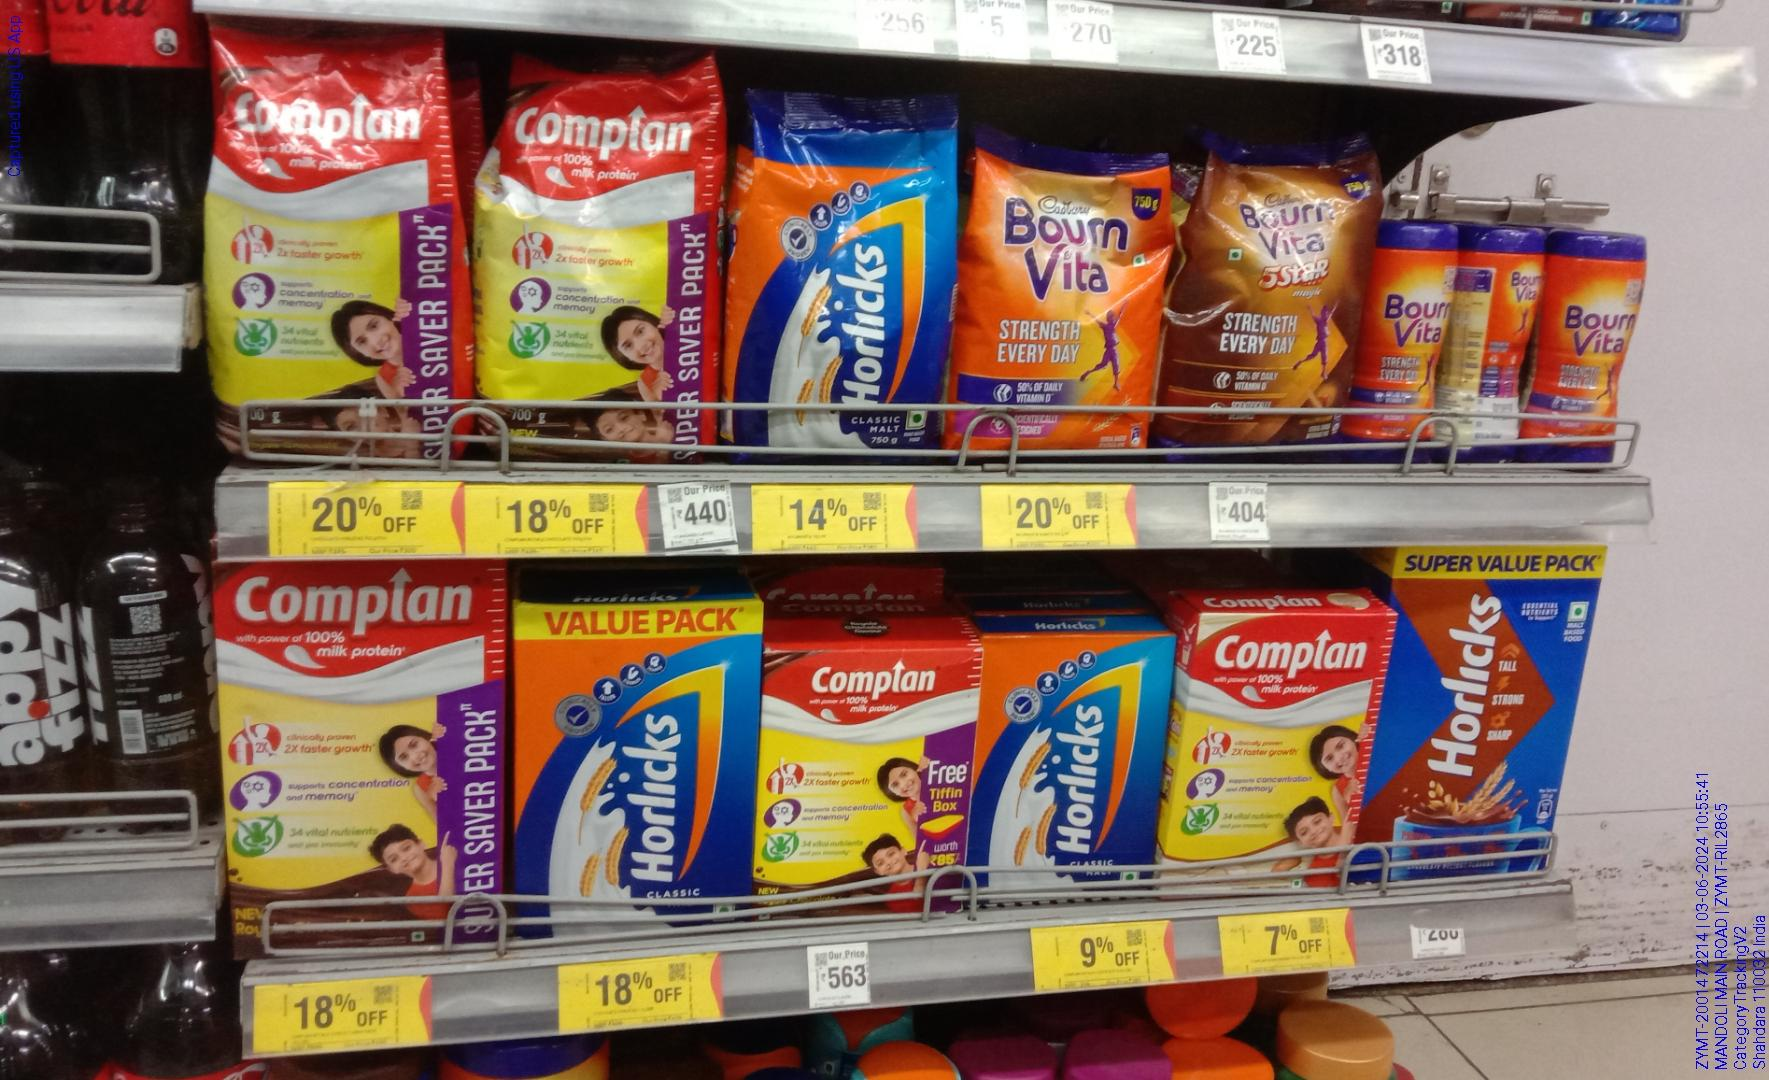BOURN_VITA_FIVE_STAR_MAGIC_750_G_POUCH: (1180, 138, 1367, 461)
HORLICK_CLASSIC_MALT_500_G_PACK: (974, 628, 1174, 906)
